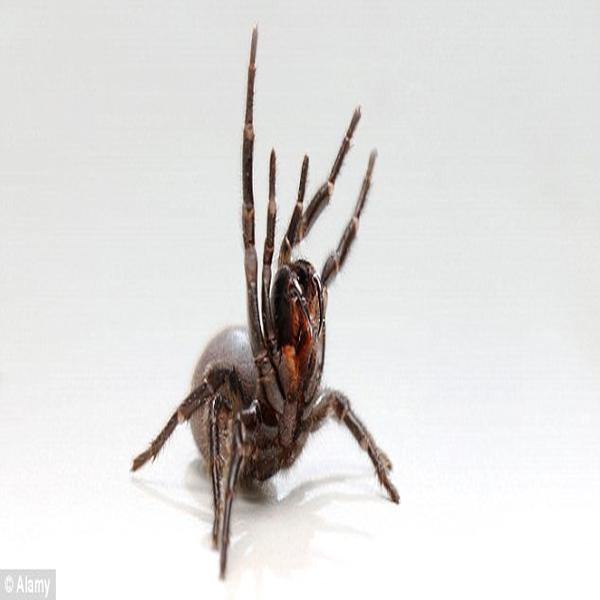Funnel Web Spider: (141, 31, 399, 550)
